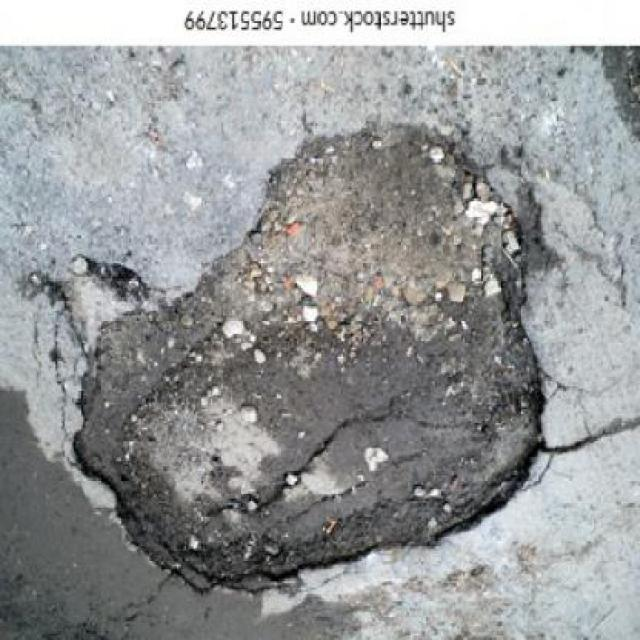Pothole: (23, 121, 551, 595)
